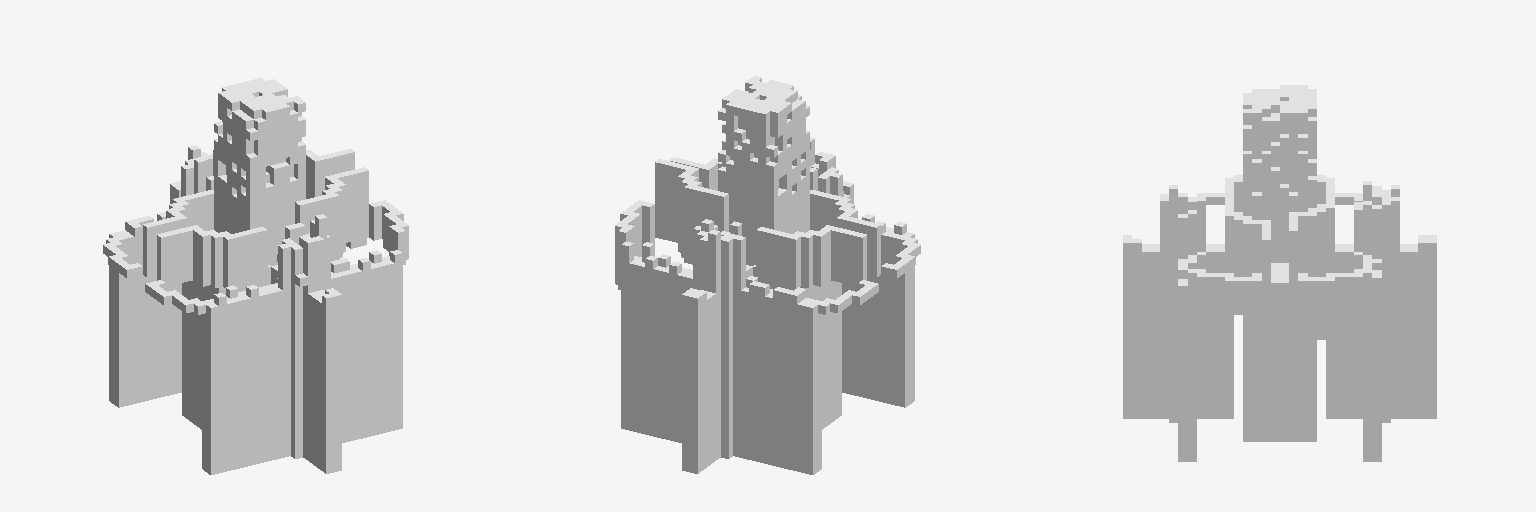
File: bushtower-2.obj
3 renders of one model, left to right at view 1: azimuth 30°, elevation 25°; view 2: azimuth 150°, elevation 25°; view 3: azimuth 270°, elevation 25°, orthographic.
Parts seen in each view (by area): view 1: object 1; view 2: object 1; view 3: object 1.
Part boxes in pixels (bbox=[...]): object 1: bbox=[103, 78, 408, 474]; object 1: bbox=[615, 76, 920, 474]; object 1: bbox=[1123, 85, 1436, 461].
Size of the model in its own units: 12 by 15.2 by 13.6.